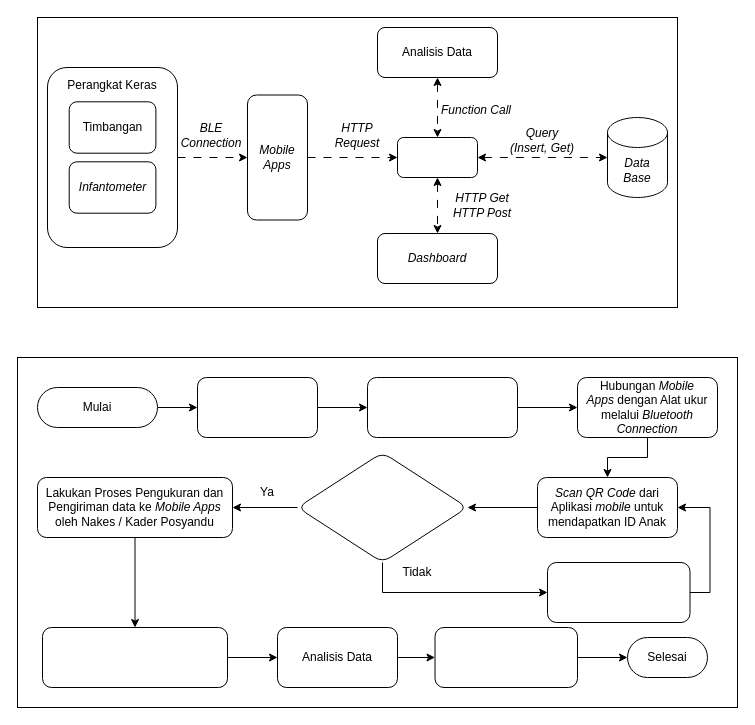
The diagram is 755 pixels wide and 725 high, and some of its shapes have lost their labels. Each missing label, with the centre of its shape:
API: the point at 437,157
Berhasil Mendapatkan ID Aanak?: the point at 382,507
Data diterima oleh Mobile Apps dan dikirim ke Database: the point at 135,657
Hasil Analisis ditampilkan pada Dashboard Monitoring: the point at 506,657
Hidupkan Alat 1. Timbangan 2. Infantometer: the point at 257,407
Login di Mobile Apps Sebagai Nakes / Kader Posyandu: the point at 442,407
Membuat Akun Anak oleh Admin: the point at 618,592
